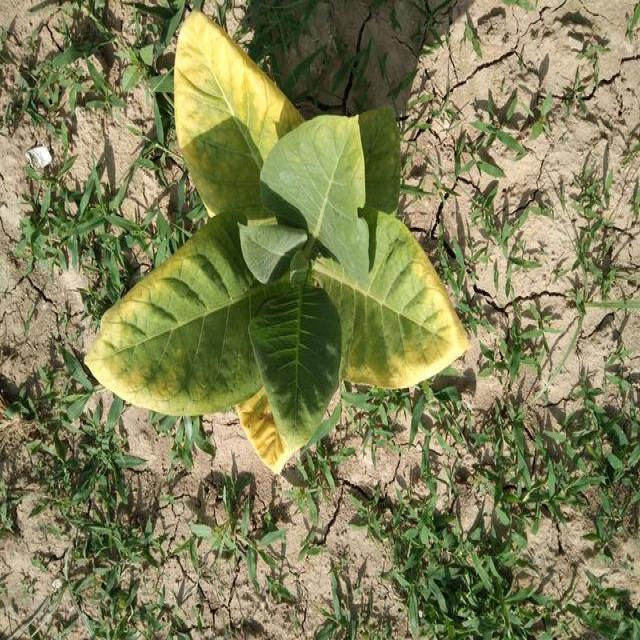crop: (88, 11, 468, 462)
